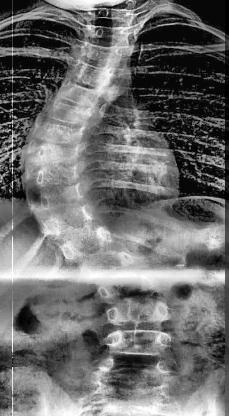Vertebrae: (96, 356, 174, 390), (35, 204, 102, 242), (57, 224, 124, 262), (96, 266, 162, 304), (74, 246, 142, 282), (71, 38, 139, 70), (64, 58, 132, 90), (104, 297, 174, 327), (105, 327, 175, 357), (26, 184, 88, 216), (52, 80, 114, 110), (22, 160, 82, 190), (76, 20, 136, 48), (43, 98, 99, 127), (33, 121, 89, 148), (24, 142, 80, 166)
